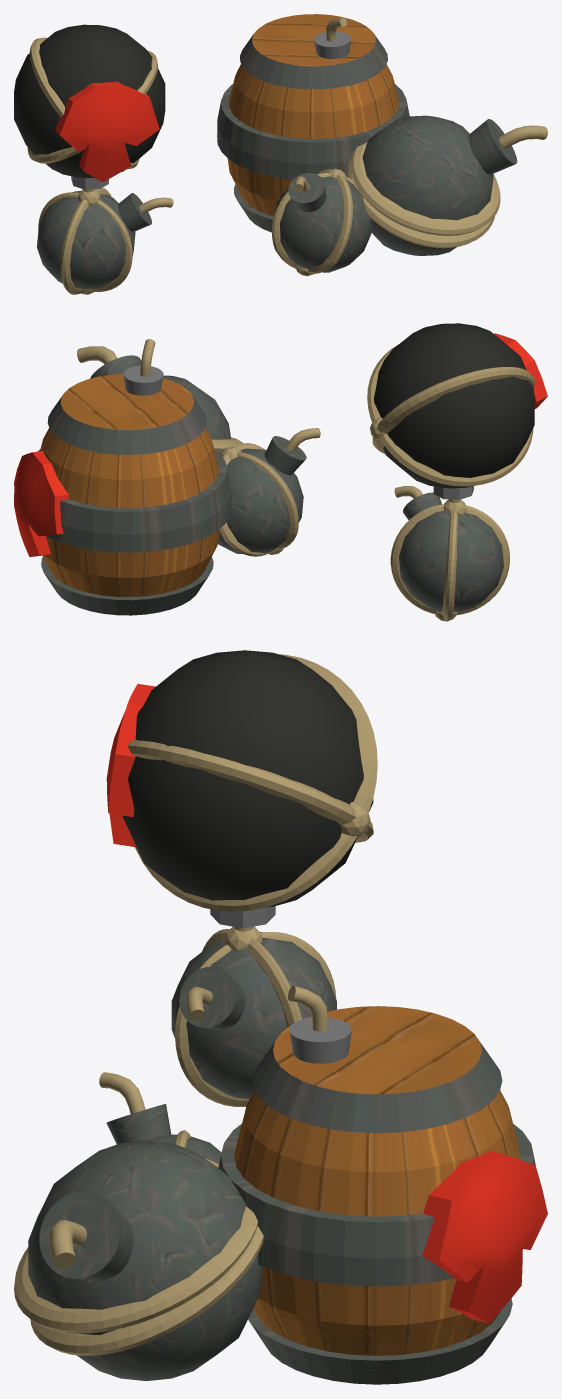
File: Bombs.fbx
3 views of the same model, one above another, from view 1: azimuth 30°, elevation 25°; view 2: azimuth 150°, elevation 25°; view 3: azimuth 270°, elevation 25° (orthographic). The views are drawn at different scales.
Parts seen in each view (by area): view 1: Cylinder.001, Sphere.004, Sphere.002, Cube.001, Sphere.003, Sphere.001, Torus.004, Torus.003, Cylinder.009, Torus.001, Torus.008, Torus.009 (+8 smaller); view 2: Cylinder.001, Sphere.002, Sphere.003, Sphere.001, Cube.002, Torus.007, Torus.006, Torus.008, Sphere.004, Torus.009, Torus.002, Cylinder.007 (+9 smaller); view 3: Cylinder.001, Sphere.002, Sphere.004, Cube.002, Sphere.003, Torus.004, Cylinder.009, Torus.007, Torus.003, Torus.006, Cube.001, Cylinder.003 (+8 smaller).
Part boxes in pixels (x1,y1,x2,y2): Cylinder.001: [217, 14, 409, 232]; Sphere.004: [362, 115, 493, 255]; Sphere.002: [14, 24, 165, 178]; Cube.001: [55, 81, 159, 182]; Sphere.003: [37, 191, 135, 288]; Sphere.001: [274, 173, 371, 272]; Torus.004: [350, 142, 500, 235]; Torus.003: [348, 160, 494, 248]; Cylinder.009: [468, 119, 517, 174]; Torus.001: [308, 169, 352, 273]; Torus.008: [60, 187, 111, 294]; Torus.009: [38, 192, 132, 291]; Cylinder.001: [38, 374, 231, 615]; Sphere.002: [373, 323, 534, 488]; Sphere.003: [399, 510, 503, 611]; Sphere.001: [218, 448, 303, 554]; Cube.002: [14, 451, 68, 556]; Torus.007: [372, 367, 534, 453]; Torus.006: [367, 344, 533, 486]; Torus.008: [390, 504, 509, 614]; Sphere.004: [163, 375, 230, 439]; Torus.009: [442, 511, 457, 620]; Torus.002: [237, 452, 298, 549]; Cylinder.007: [264, 436, 306, 475]; Cylinder.001: [218, 1006, 535, 1384]; Sphere.002: [122, 650, 373, 907]; Sphere.004: [28, 1140, 262, 1380]; Cube.002: [422, 1151, 547, 1323]; Sphere.003: [171, 932, 336, 1099]; Torus.004: [14, 1166, 257, 1333]; Cylinder.009: [39, 1191, 133, 1281]; Torus.007: [135, 654, 377, 911]; Torus.003: [30, 1226, 263, 1355]; Torus.006: [127, 740, 373, 842]; Cube.001: [106, 684, 155, 847]; Cylinder.003: [179, 966, 245, 1029].
Bounding box in the file's own units: 700 × 390 × 410.
